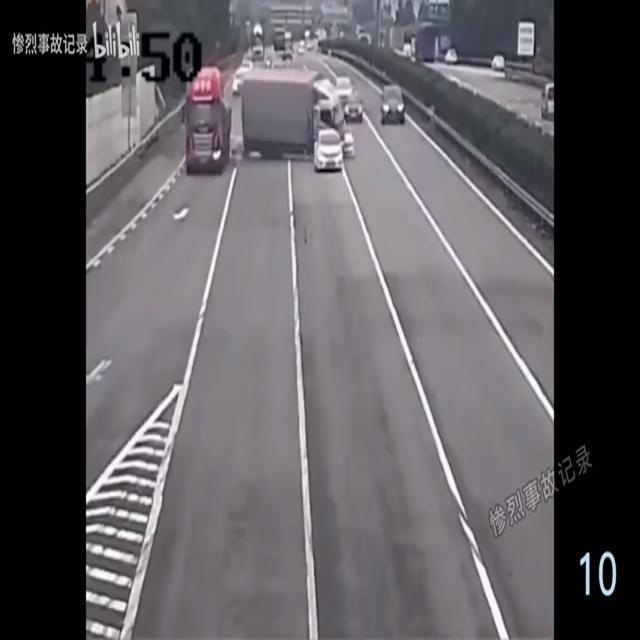accident: (242, 74, 354, 170)
non-accident: (334, 78, 362, 124)
